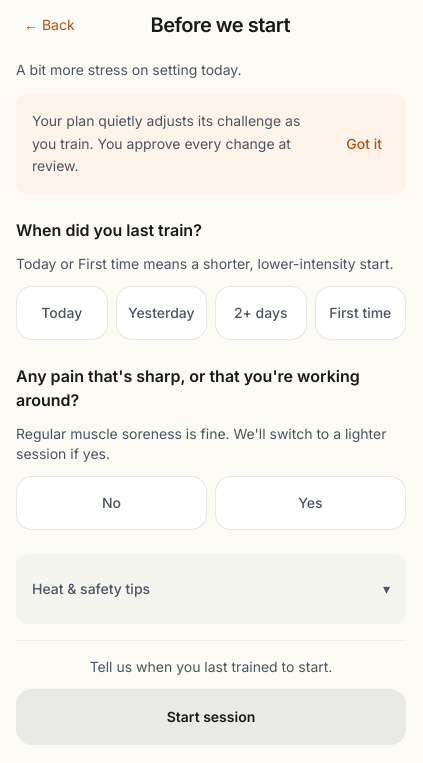
Test: SafetyCheckScreen steering trace (trust-loop U4) › pain override suppresses the line, disclosure, and gloss
This screenshot has width=423, height=763.
Expected: the text "A bit more stress on setting today." is shown, [16, 61, 242, 78]
Expected: the heading "Any pain that's sharp, or that you're working around?" is shown, [16, 364, 406, 412]
Click the radio button labelled "Yes" at (310, 503), box [215, 476, 406, 530]
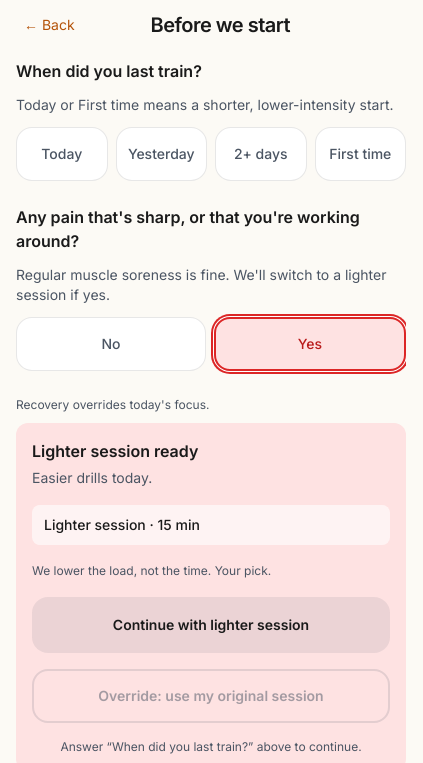
Expected: the text "A bit more stress on setting today." is gone
Expected: the element with test id "steering-trace" is gone
Answering No restores the trace - "active" means currently flagged.
Click the radio button labelled "No" at (111, 344), box [16, 317, 206, 371]
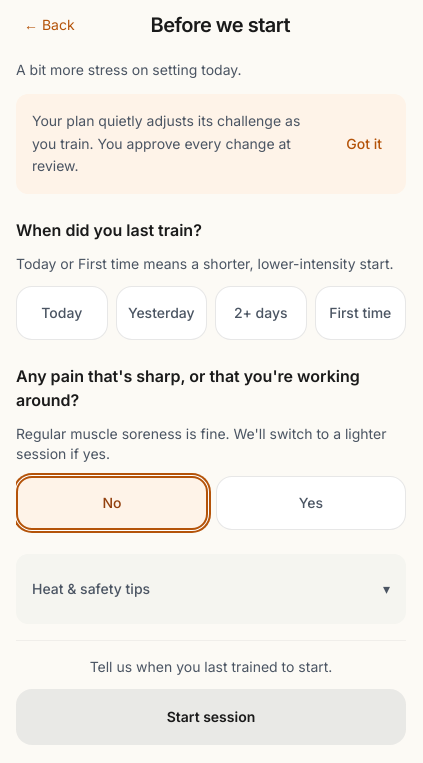
Expected: the text "A bit more stress on setting today." is shown, [16, 61, 242, 78]
